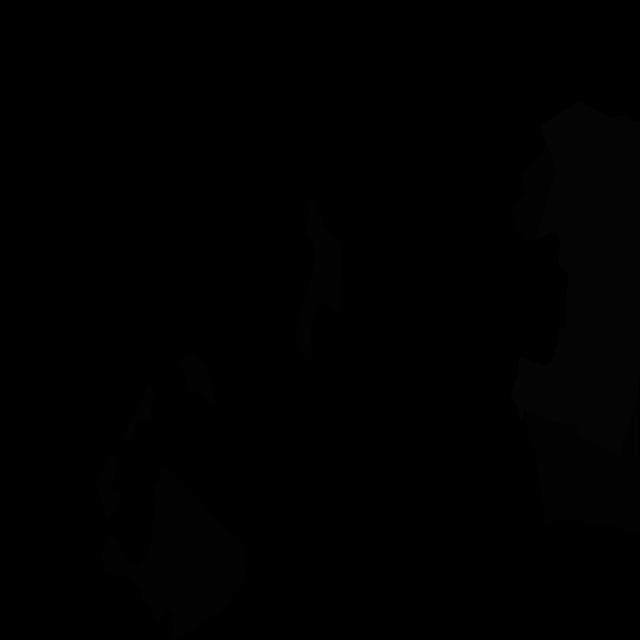cardboard: (101, 465, 246, 640), (526, 380, 640, 535), (292, 199, 342, 365), (510, 145, 556, 244), (96, 448, 124, 519), (179, 352, 215, 405), (124, 384, 154, 447)
soft_plastic: (510, 102, 640, 457)
